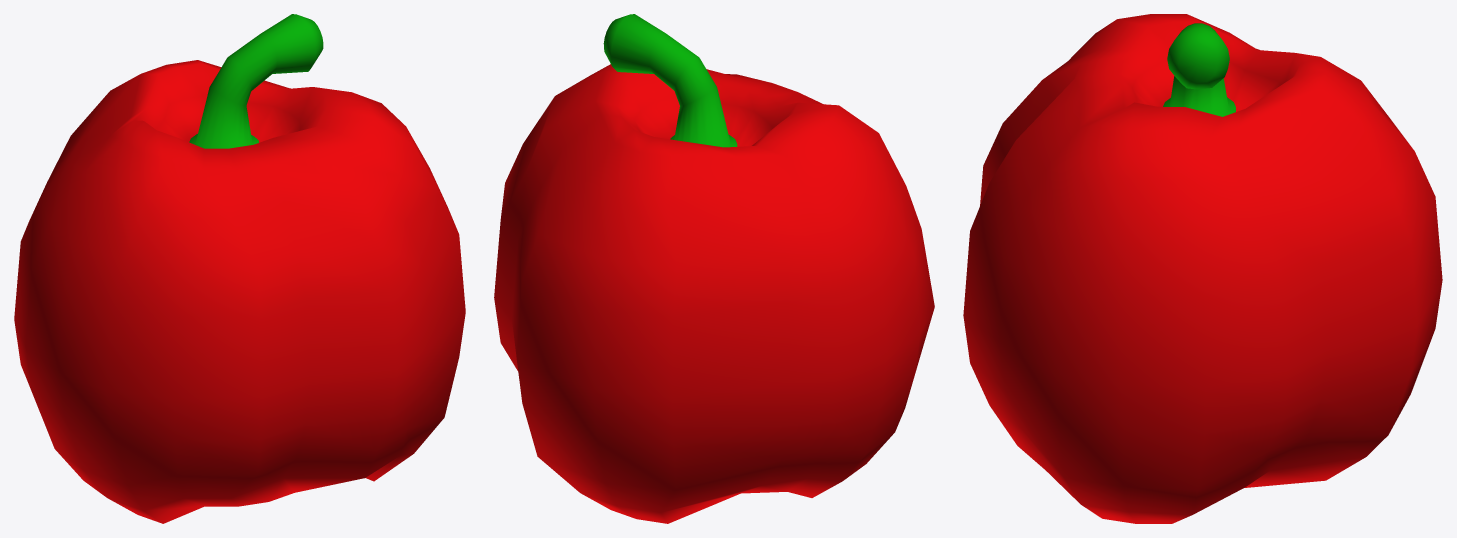
Rendered from bell pepper.fbx.
3 renders of one model, left to right at view 1: azimuth 30°, elevation 25°; view 2: azimuth 150°, elevation 25°; view 3: azimuth 270°, elevation 25°, orthographic. The views are drawn at different scales.
Visible parts, largest first — view 1: Sphere; view 2: Sphere; view 3: Sphere.
Boxes of the visible parts, <box> form: Sphere: <box>14,14,465,523</box>; Sphere: <box>494,14,934,523</box>; Sphere: <box>963,14,1442,523</box>.
Bounding box in the file's own units: 234 × 252 × 231.
